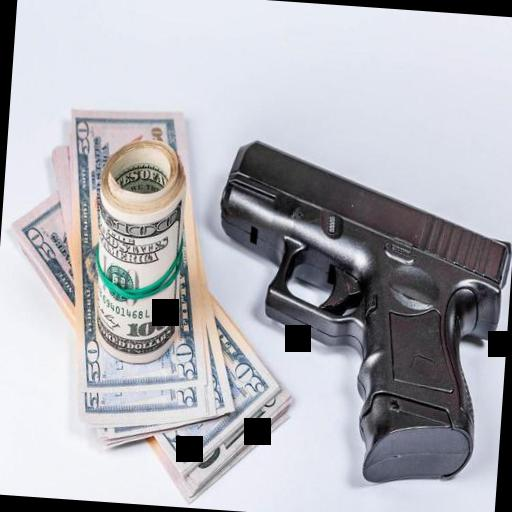Handgun: (198, 131, 512, 500)
